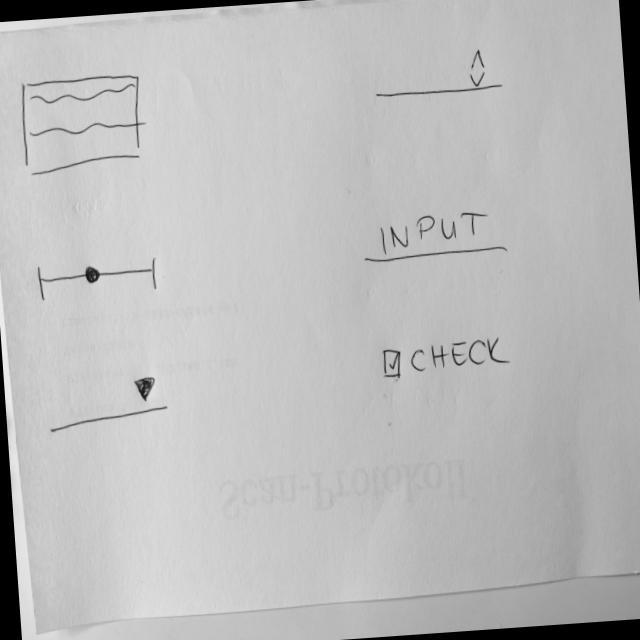checkbox: (381, 334, 516, 384)
input: (361, 205, 511, 266)
number-input: (371, 46, 506, 105)
select: (45, 372, 172, 436)
slider: (35, 254, 162, 304)
textarea: (18, 70, 147, 180)
